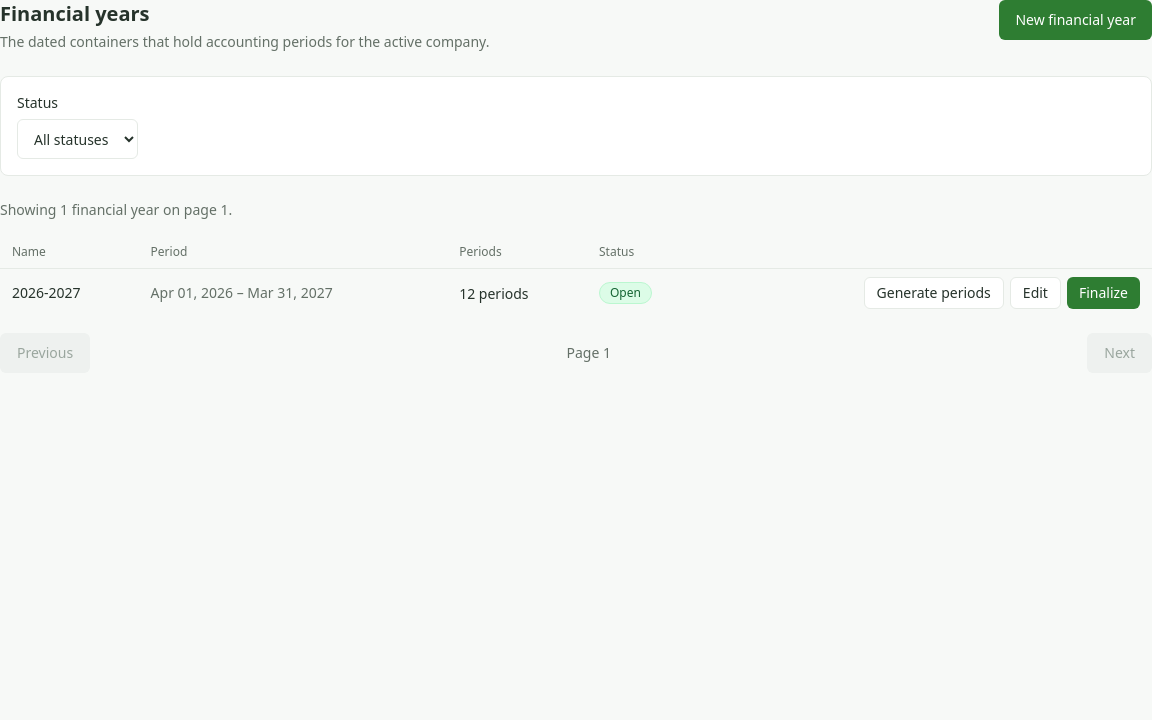
FinancialYearsView › opens the generate confirmation for a row
Click the button "Generate periods" at {"x": 934, "y": 293}, box [864,277,1004,309]
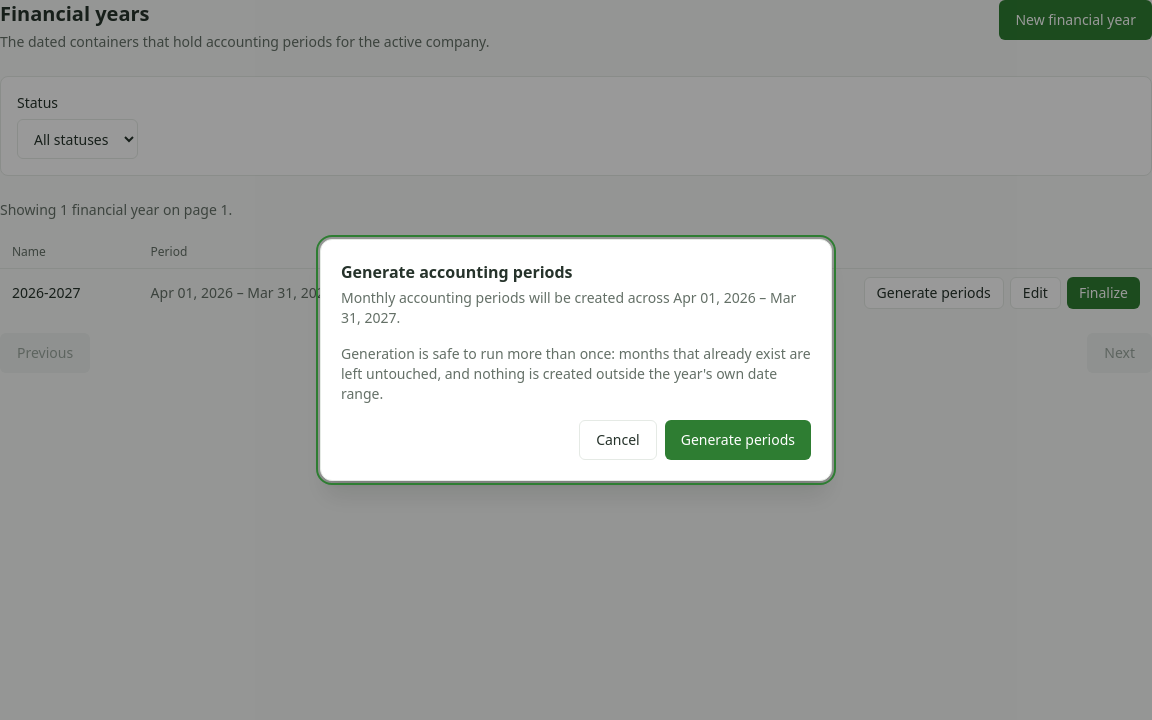
Expected: the dialog "Generate accounting periods" is shown, [320,239,832,481]
